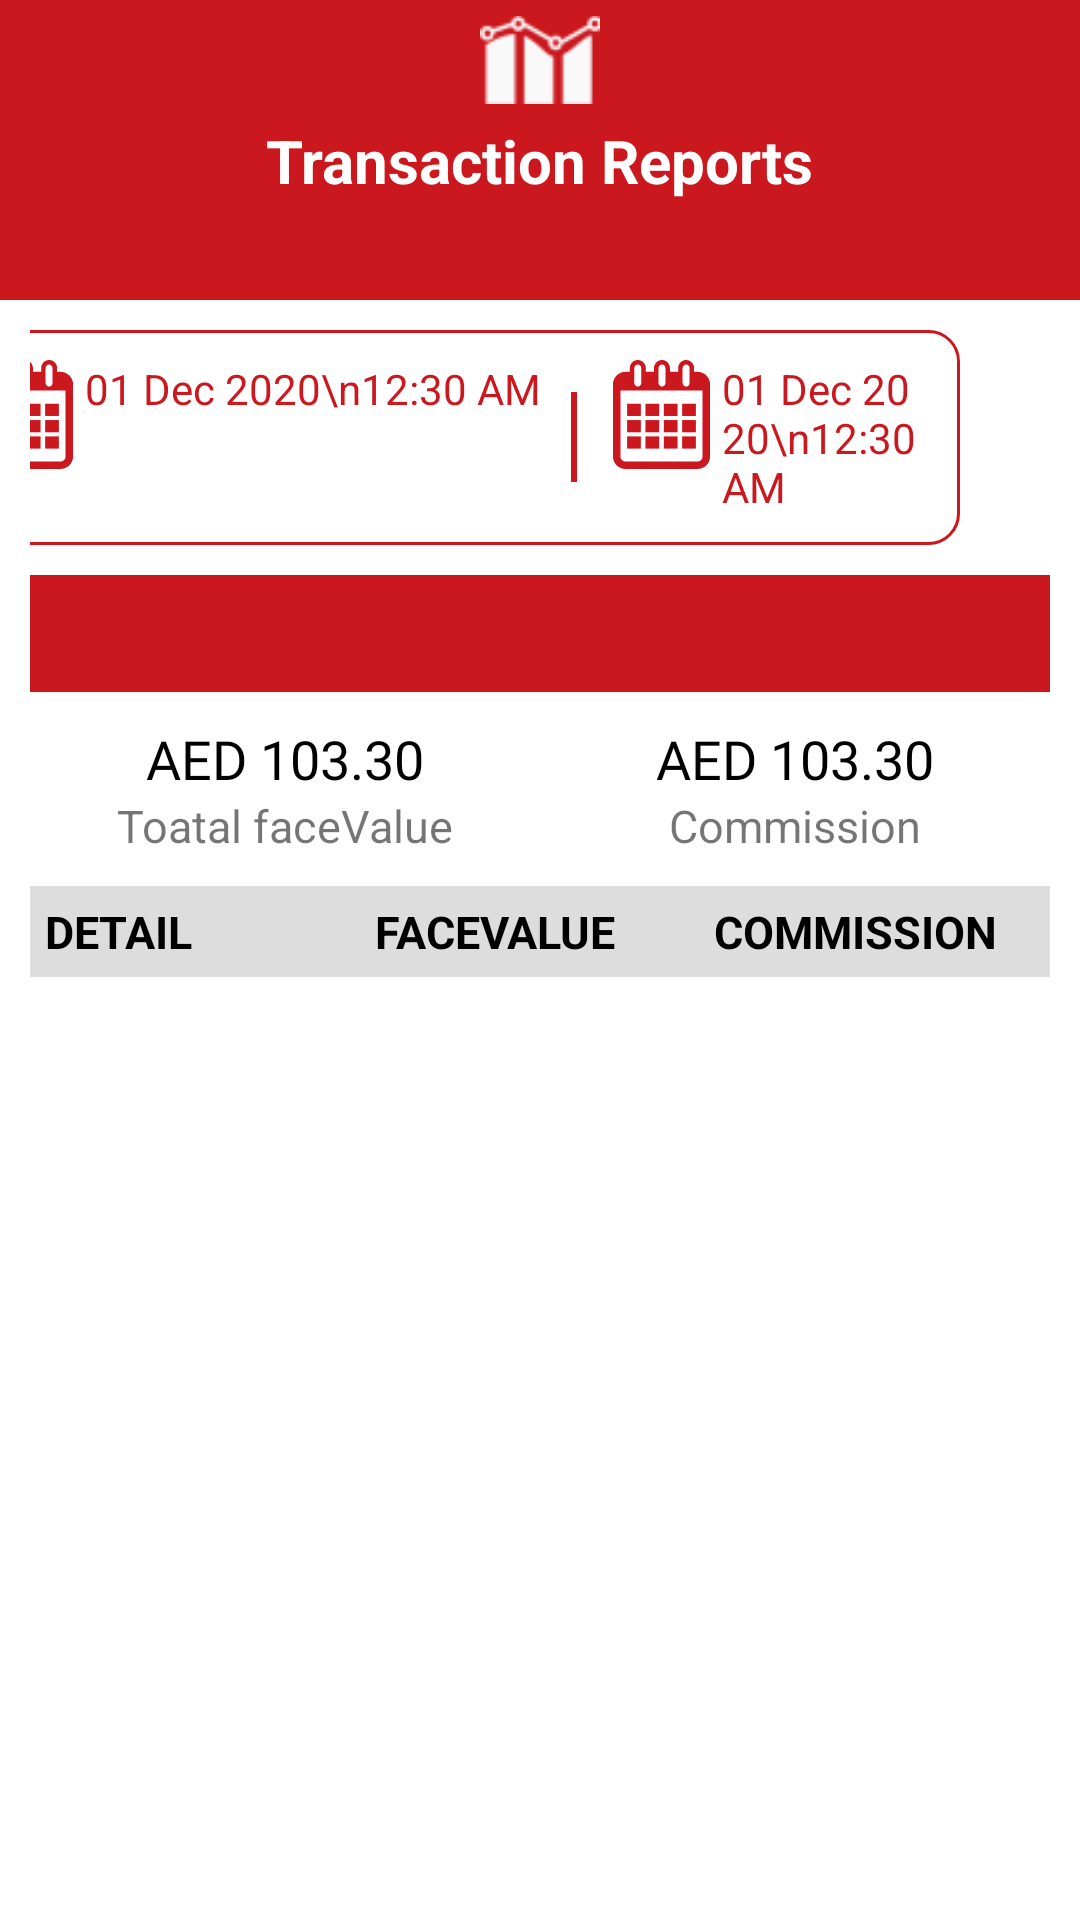

Icon bounding boxes for this 1080px×1920px phone screenshot, format (x1,y1,x2,y2):
reciept report: (480,16,600,104)
